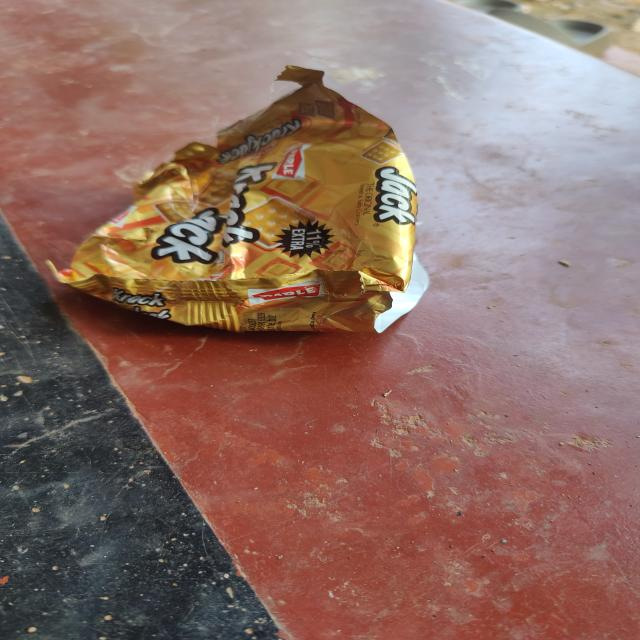plastic: (54, 61, 435, 344)
